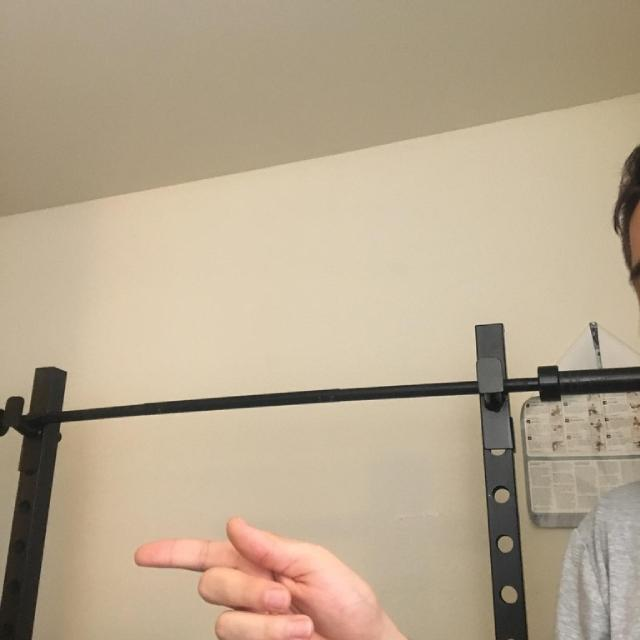G: (92, 430, 399, 640)
